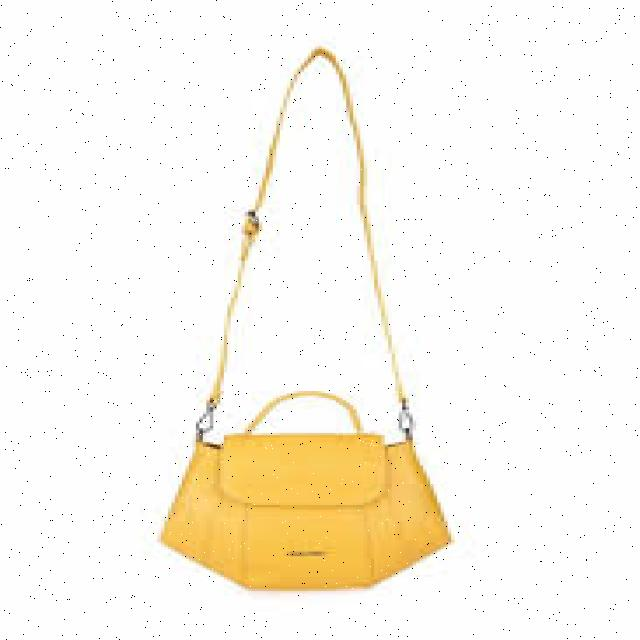handbag: (158, 44, 452, 589)
